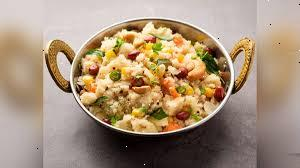upma: (84, 27, 230, 125)
